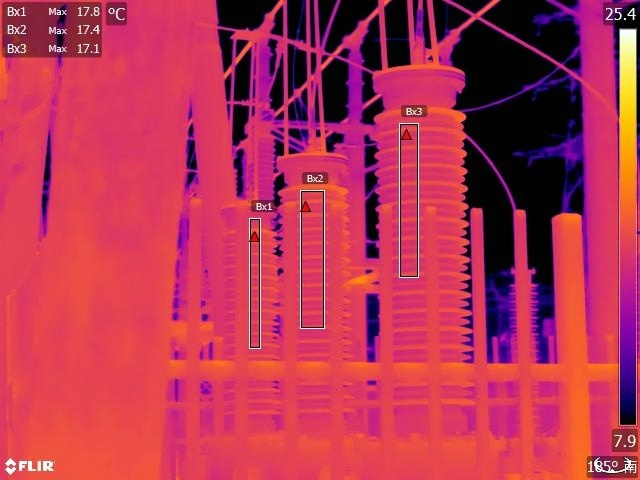post insulator: (250, 129, 279, 204), (249, 42, 275, 117), (345, 50, 368, 117)
potential transformer: (360, 50, 492, 440), (273, 146, 370, 428), (222, 184, 288, 434), (504, 252, 548, 440)
